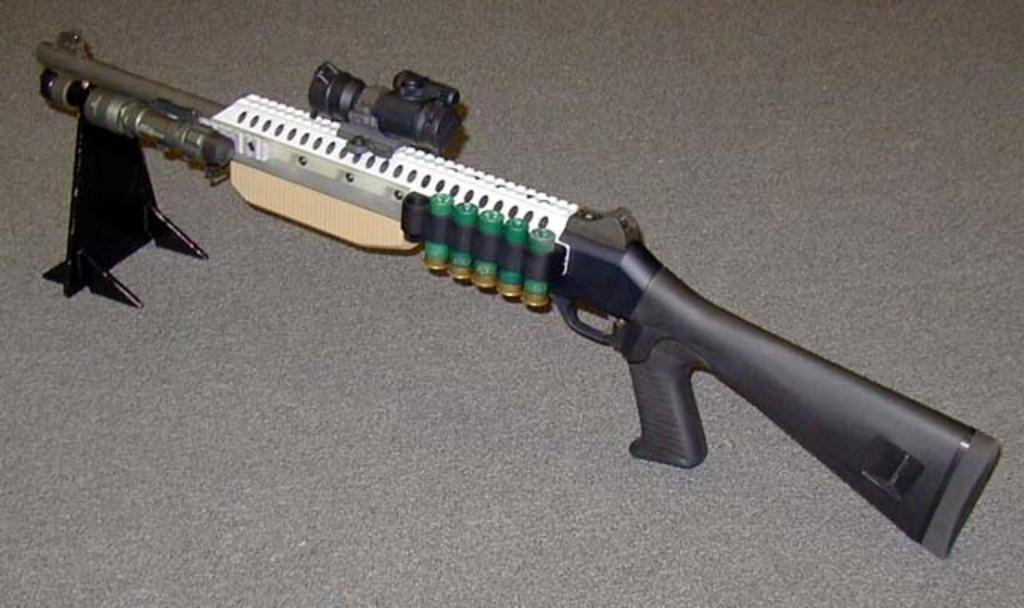Rifle: (42, 35, 997, 562)
